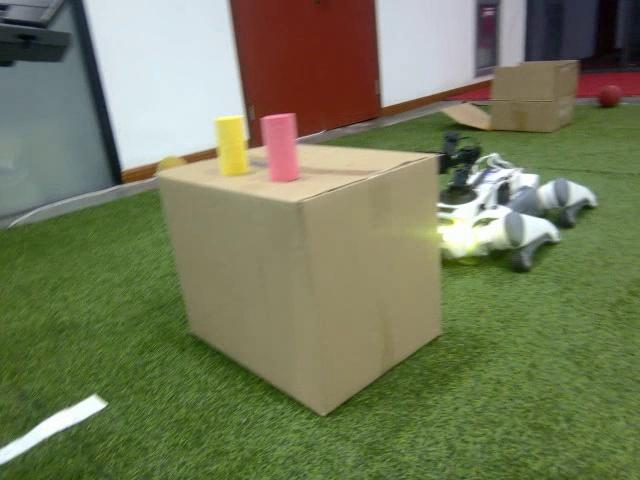red_cylinder: (257, 110, 302, 184)
yellow_cylinder: (211, 113, 251, 177)
